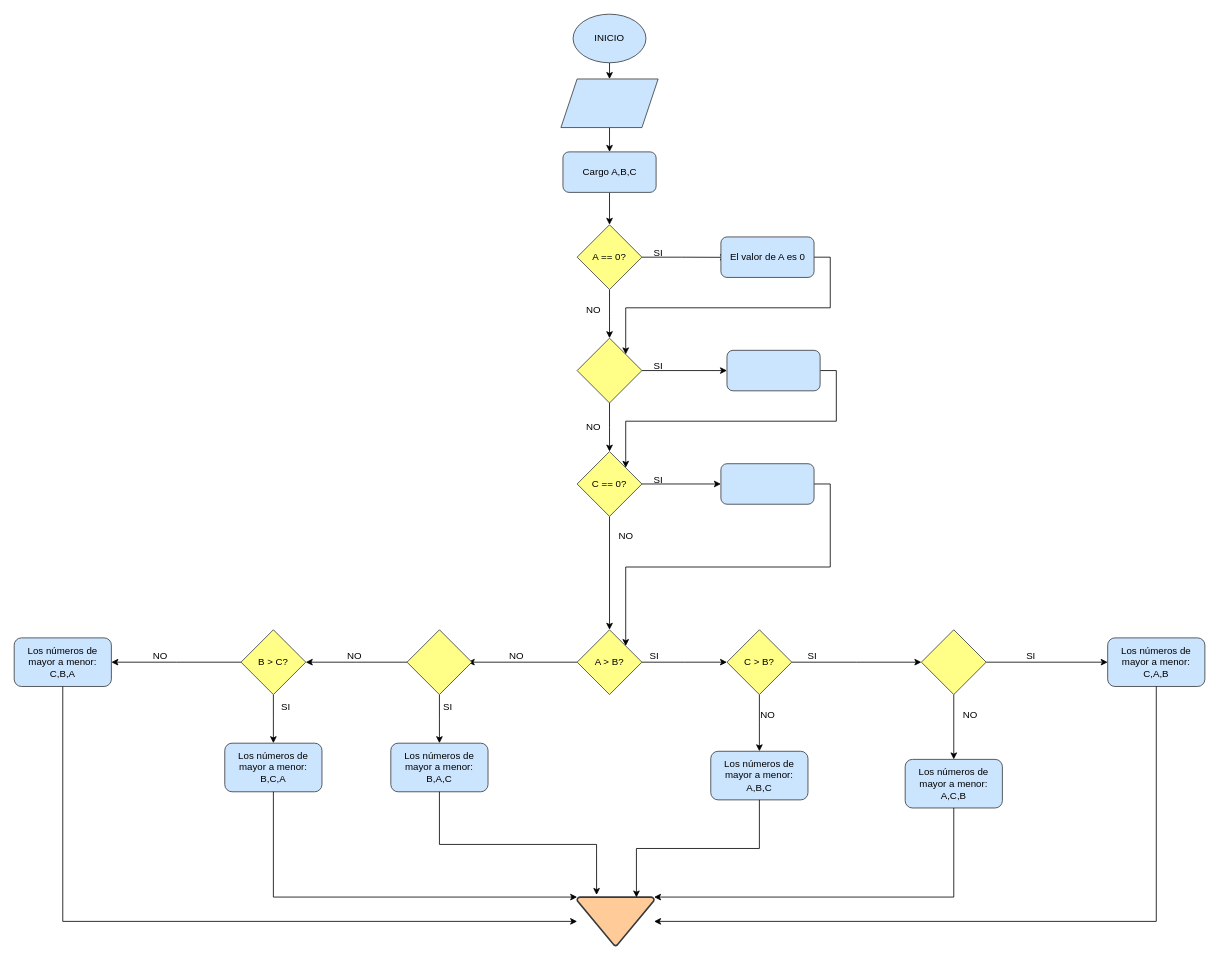
Image size: 1219x961. Some labels were removed from this diagram. The centre of each missing label's shape, as x and y in pixels:
A > C?: the point at 439,662
A,B,C: the point at 609,103
B == 0?: the point at 609,370
C > A?: the point at 953,662
El valor de B es 0: the point at 773,370
El valor de C es 0: the point at 767,483
FIN: the point at 615,921
